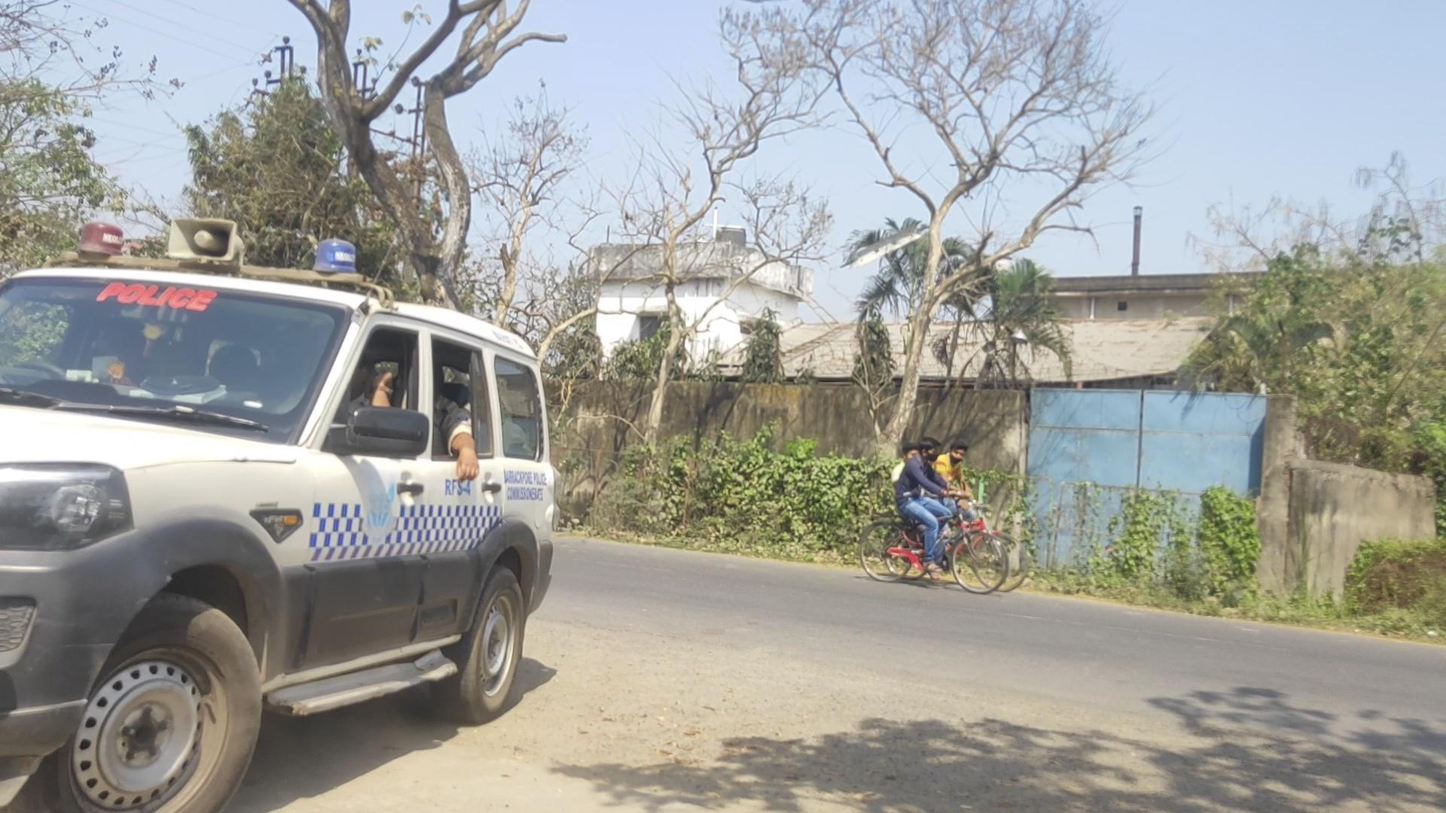bike: (858, 437, 1008, 595), (885, 440, 1028, 592)
car: (2, 217, 555, 813)
